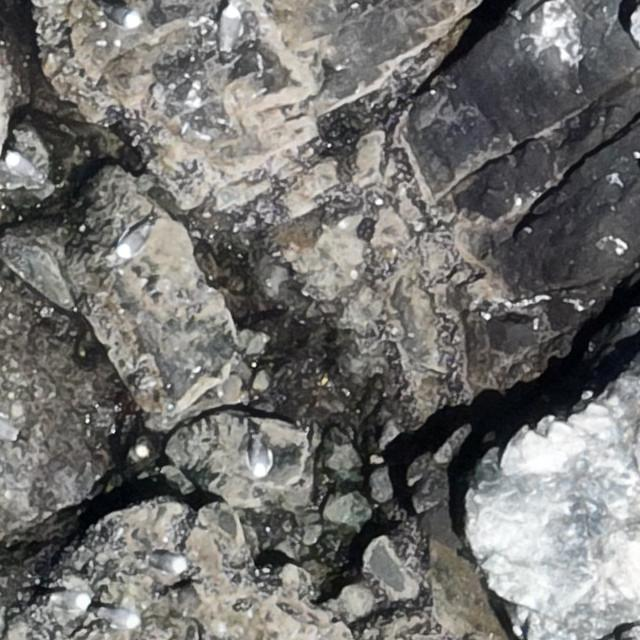umineko: (47, 589, 92, 609), (119, 226, 148, 255), (221, 6, 239, 46), (100, 610, 140, 628), (106, 7, 140, 28), (153, 554, 186, 573), (8, 154, 34, 177), (252, 444, 270, 476), (1, 418, 19, 441)
